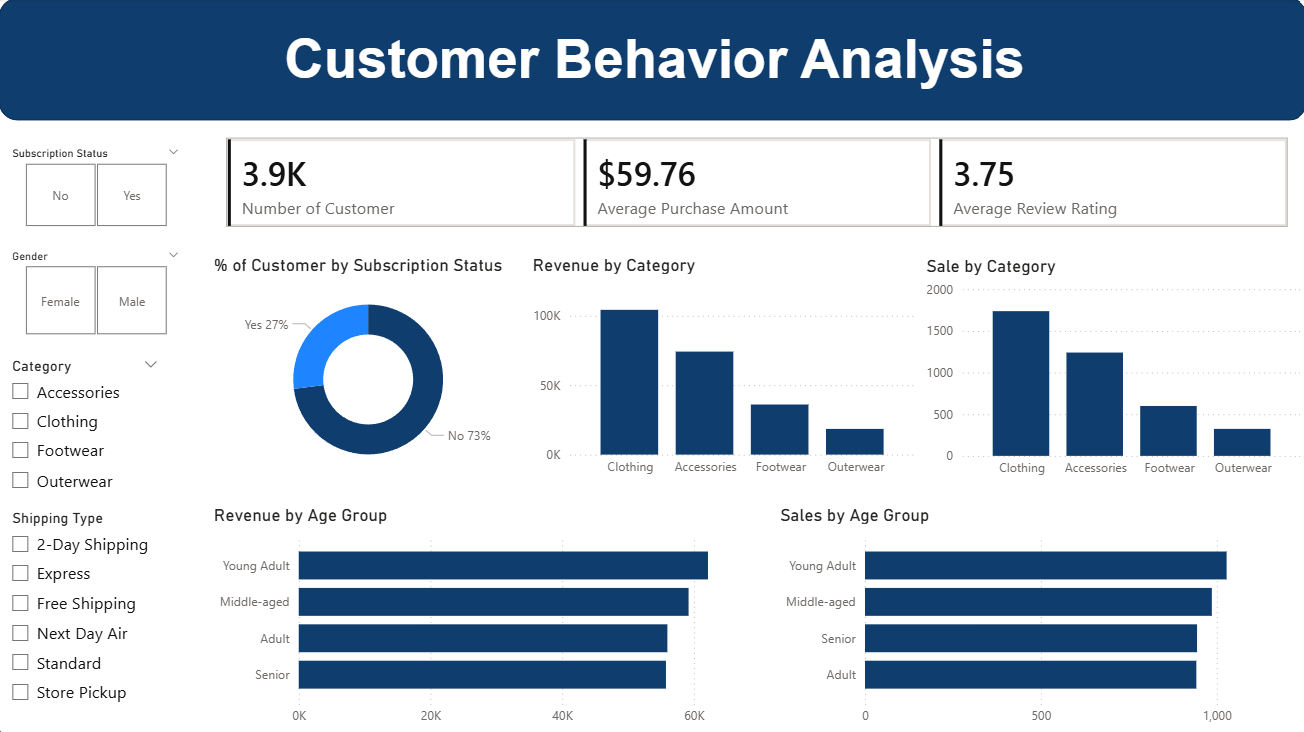

What the dashboard file says about the page in this screenshot:
{"tool":"powerbi","page":{"name":"Page 1","canvas":[1280,720],"ordinal":0},"visuals":[{"type":"cardVisual","fields":{"Data":["customer_behavior customer.Number of Customer","customer_behavior customer.Average Purchase Amount","customer_behavior customer.Average Review Rating"]},"box":[205.4,119.8,1074.9,121.1],"z":0},{"type":"donutChart","title":"% of Customer by Subscription Status","fields":{"Category":["customer_behavior customer.subscription_status"],"Y":["customer_behavior customer.Number of Customer"]},"box":[205.4,250.7,311.8,226.2],"z":1000},{"type":"clusteredColumnChart","title":"Revenue by Category","fields":{"Y":["Sum(customer_behavior customer.purchase_amount)"],"Category":["customer_behavior customer.category"]},"box":[517.3,250.7,385.2,226.2],"z":2000},{"type":"clusteredColumnChart","title":"Sale by Category","fields":{"Y":["customer_behavior customer.Number of Customer"],"Category":["customer_behavior customer.category"]},"box":[902.5,251.9,377.9,226.2],"z":3000},{"type":"slicer","fields":{"Values":["customer_behavior customer.category"]},"box":[0,346.1,167.5,149.2],"z":4000},{"type":"slicer","fields":{"Values":["customer_behavior customer.shipping_type"]},"box":[0,509.9,151.6,210.3],"z":5000},{"type":"slicer","fields":{"Values":["customer_behavior customer.subscription_status"]},"box":[0,140.6,188.3,89.3],"z":6000},{"type":"slicer","fields":{"Values":["customer_behavior customer.gender"]},"box":[0,240.9,188.3,95.4],"z":7000},{"type":"clusteredBarChart","title":"Revenue by Age Group","fields":{"Y":["Sum(customer_behavior customer.purchase_amount)"],"Category":["customer_behavior customer.age_group"]},"box":[205.4,495.2,553.9,225],"z":8000},{"type":"clusteredBarChart","title":"Sales by Age Group","fields":{"Category":["customer_behavior customer.age_group"],"Y":["CountNonNull(customer_behavior customer.purchase_amount)"]},"box":[759.4,495.2,520.9,225],"z":9000},{"type":"shape","box":[0,0,1280.3,119.8],"z":9001},{"type":"textbox","box":[78.3,24.5,1126.2,116.2],"z":9002}]}

Visuals, with their boxes in screenshot pixels (x1, y1, x2, y2), scaled from the page's 1280x720 canvas onto the 1304x732 screenshot:
cardVisual - customer_behavior customer.Number of Customer x customer_behavior customer.Average Purchase Amount: region(209, 122, 1303, 245)
"% of Customer by Subscription Status" donutChart: region(209, 255, 527, 485)
"Revenue by Category" clusteredColumnChart: region(527, 255, 919, 485)
"Sale by Category" clusteredColumnChart: region(919, 256, 1303, 486)
slicer - customer_behavior customer.category: region(0, 352, 171, 504)
slicer - customer_behavior customer.shipping_type: region(0, 518, 154, 731)
slicer - customer_behavior customer.subscription_status: region(0, 143, 192, 234)
slicer - customer_behavior customer.gender: region(0, 245, 192, 342)
"Revenue by Age Group" clusteredBarChart: region(209, 503, 774, 731)
"Sales by Age Group" clusteredBarChart: region(774, 503, 1303, 731)
shape: region(0, 0, 1303, 122)
textbox: region(80, 25, 1227, 143)
